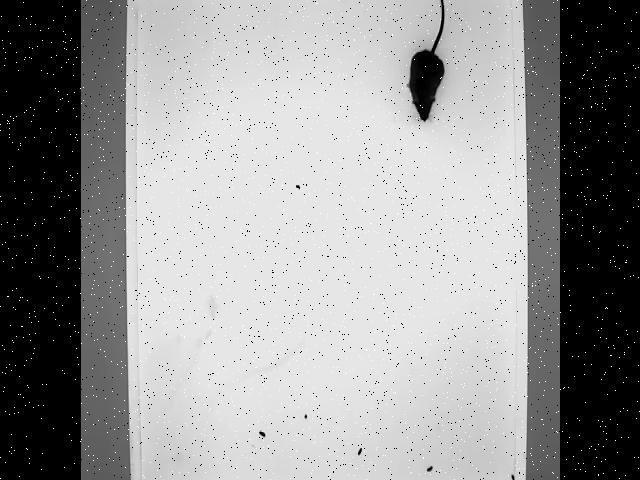Tikus: (403, 0, 447, 126)
